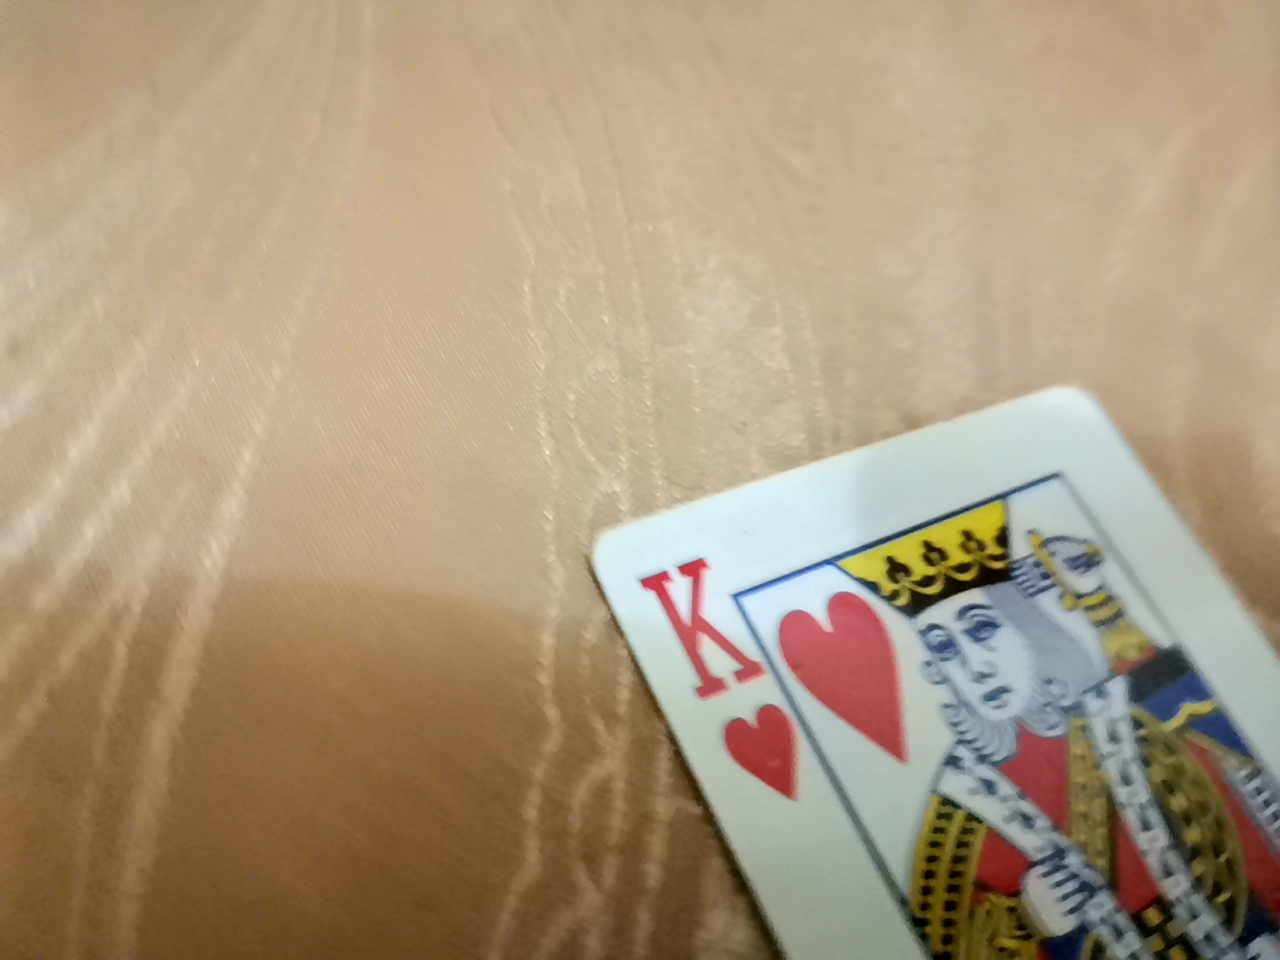hx k: (554, 358, 1279, 958)
